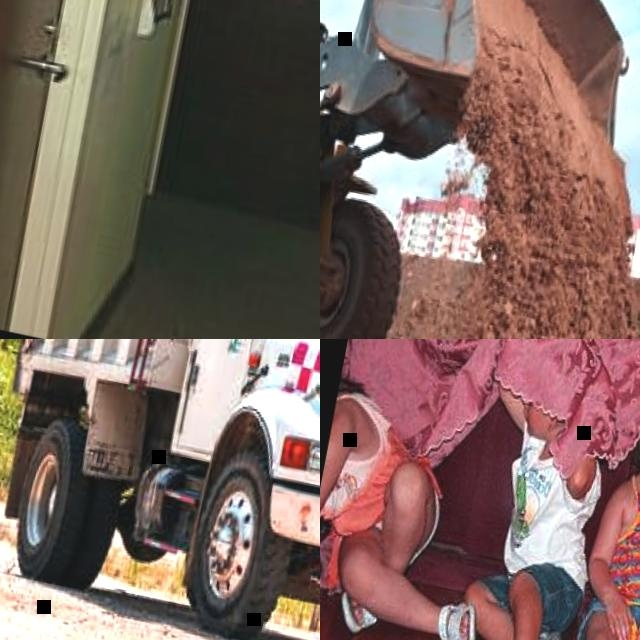NO-Mask: (520, 408, 548, 442)
NO-Safety Vest: (499, 436, 600, 583), (320, 387, 412, 544), (605, 473, 640, 607)
Person: (320, 339, 529, 640), (440, 374, 620, 640), (540, 364, 640, 640)
machinery: (320, 0, 640, 339), (0, 339, 320, 640)
